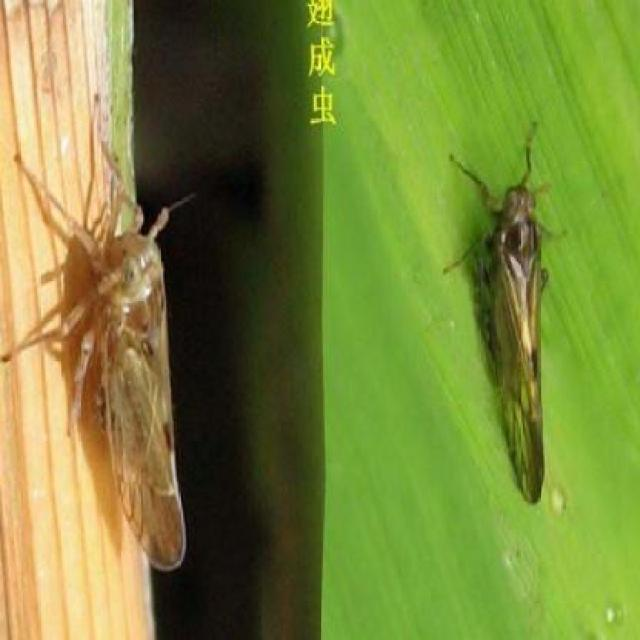brown-planthopper: (85, 223, 188, 572), (484, 183, 550, 511)
